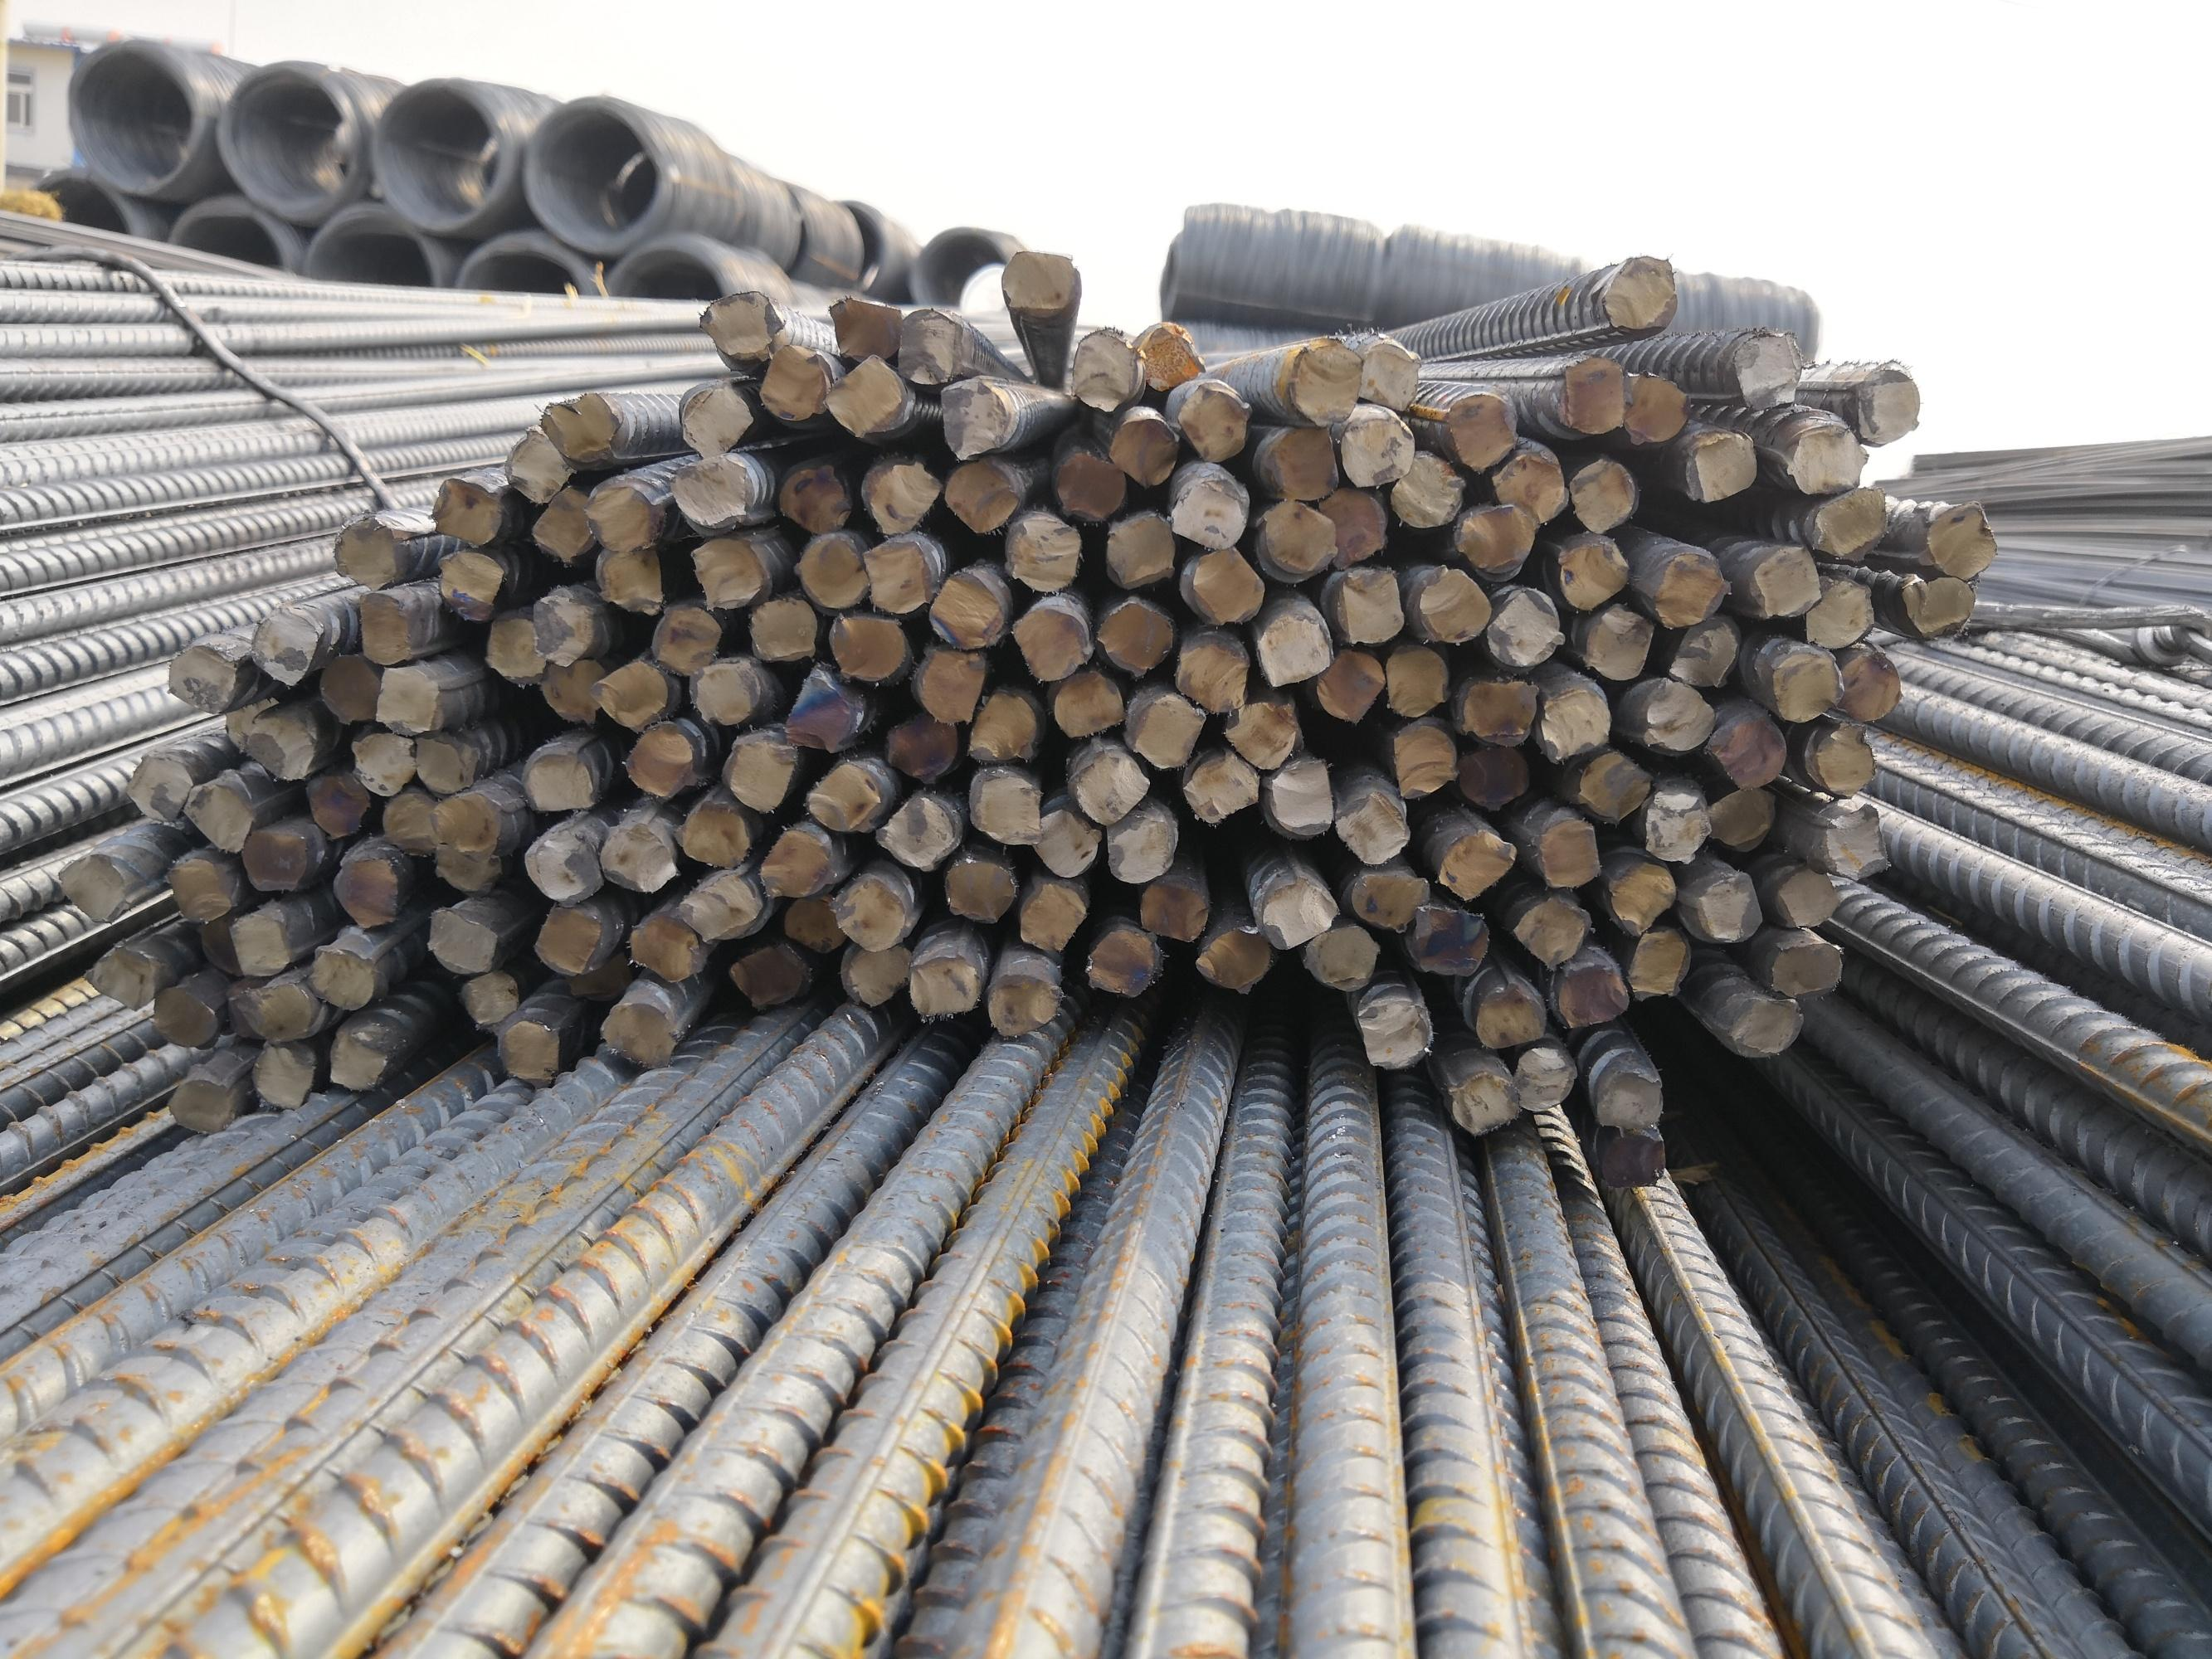bar: (1701, 695, 1790, 793), (924, 554, 1009, 653), (1279, 333, 1367, 429), (777, 652, 856, 756), (821, 350, 917, 436), (1163, 462, 1253, 551), (1597, 246, 1682, 340), (666, 448, 763, 530), (851, 530, 940, 619), (1006, 594, 1093, 685), (1327, 781, 1417, 868), (1382, 443, 1468, 535), (1483, 579, 1567, 673), (1778, 415, 1874, 497), (573, 477, 673, 556), (1093, 592, 1180, 681), (1436, 380, 1518, 474), (875, 782, 955, 878), (1260, 415, 1347, 502), (1347, 985, 1435, 1072), (1762, 638, 1848, 727), (1063, 746, 1154, 829), (1487, 441, 1571, 532), (1560, 446, 1642, 538), (1923, 491, 2005, 584), (753, 814, 840, 899), (999, 509, 1084, 596), (1123, 687, 1210, 772), (1546, 350, 1632, 437), (1647, 544, 1734, 629), (1184, 537, 1267, 626), (1257, 495, 1340, 584), (1431, 821, 1520, 904), (1802, 484, 1893, 566), (1184, 918, 1279, 995), (1170, 631, 1255, 716), (1574, 739, 1659, 824), (521, 894, 608, 978), (1379, 716, 1462, 803), (1401, 897, 1489, 981), (1632, 671, 1719, 755), (1337, 401, 1419, 490), (1342, 856, 1435, 934), (861, 453, 945, 538), (1253, 605, 1337, 690), (1452, 495, 1537, 579), (940, 450, 1021, 537), (1175, 376, 1257, 464), (1255, 870, 1342, 951), (1551, 526, 1633, 613), (966, 762, 1046, 850), (1846, 361, 1926, 450), (912, 636, 990, 727), (1313, 479, 1388, 573), (720, 941, 816, 1014), (593, 812, 675, 897), (1799, 566, 1881, 652), (818, 286, 905, 366), (1741, 537, 1822, 624), (1347, 326, 1424, 416), (1726, 321, 1802, 411), (1408, 565, 1492, 647), (1527, 680, 1611, 762), (1527, 809, 1609, 892), (242, 601, 322, 687), (518, 826, 605, 904), (682, 532, 769, 610), (757, 338, 833, 427), (933, 373, 1009, 462), (1639, 777, 1715, 866), (668, 385, 760, 458), (1327, 565, 1408, 647), (830, 870, 908, 955), (329, 845, 406, 932), (793, 528, 870, 615), (1098, 800, 1175, 887), (1818, 795, 1895, 882), (1293, 920, 1382, 995), (894, 298, 967, 389), (1264, 749, 1337, 840), (537, 387, 621, 465), (962, 685, 1041, 769), (1027, 798, 1105, 882), (1309, 643, 1388, 727), (1511, 887, 1595, 965), (235, 709, 321, 786), (586, 540, 671, 617), (675, 870, 760, 946), (899, 946, 985, 1023), (695, 288, 788, 357), (1105, 408, 1185, 488), (1098, 509, 1178, 589), (804, 751, 882, 833), (1178, 749, 1260, 828), (1048, 666, 1131, 742), (1457, 673, 1541, 749), (586, 657, 671, 732), (823, 606, 908, 681), (1072, 321, 1140, 415), (51, 852, 138, 925), (774, 460, 854, 538), (1616, 925, 1696, 1004), (157, 640, 239, 716), (1666, 612, 1743, 694), (326, 509, 401, 592), (1618, 362, 1693, 446), (1607, 852, 1680, 938), (1893, 566, 1978, 640), (1832, 643, 1903, 730), (1717, 993, 1808, 1061), (1049, 446, 1128, 525), (671, 796, 751, 873), (1222, 695, 1302, 772), (1590, 1054, 1666, 1134), (1553, 955, 1633, 1032), (617, 725, 699, 800), (418, 903, 502, 976), (500, 422, 573, 505), (1082, 925, 1166, 999), (1452, 739, 1536, 812), (1694, 864, 1768, 948), (624, 908, 701, 986), (1375, 640, 1452, 718), (1578, 603, 1654, 681), (180, 779, 254, 859), (429, 791, 509, 866), (424, 476, 504, 551), (880, 706, 960, 781), (995, 242, 1079, 314), (647, 601, 723, 678), (835, 934, 912, 1011), (1684, 427, 1761, 504), (1469, 974, 1548, 1049), (594, 999, 675, 1072), (723, 732, 797, 812), (1442, 1065, 1523, 1136), (978, 972, 1069, 1037), (514, 746, 598, 816), (528, 483, 596, 568), (1764, 934, 1849, 1002), (431, 547, 506, 624), (370, 660, 443, 739), (295, 769, 373, 842), (941, 852, 1020, 925), (1013, 877, 1086, 955), (739, 594, 819, 666), (1137, 866, 1208, 946), (310, 650, 383, 727), (1131, 319, 1208, 392), (1595, 1117, 1672, 1190), (1705, 777, 1778, 854), (1808, 716, 1877, 796), (77, 945, 159, 1012), (525, 587, 593, 669), (235, 824, 310, 897), (342, 725, 418, 796), (302, 941, 378, 1012), (1773, 857, 1841, 938), (155, 854, 230, 925), (221, 908, 296, 979), (120, 749, 192, 824), (234, 983, 316, 1047), (1510, 1040, 1581, 1114), (350, 584, 411, 666), (490, 1016, 561, 1086), (687, 657, 760, 725), (145, 985, 220, 1051), (160, 1070, 235, 1136), (375, 782, 439, 859), (246, 1044, 316, 1114), (481, 608, 544, 685), (537, 655, 605, 725), (776, 889, 849, 953), (404, 730, 474, 796), (554, 951, 640, 1004), (324, 1026, 392, 1091), (453, 969, 526, 1028), (213, 695, 284, 753), (188, 911, 244, 985), (432, 842, 500, 894), (214, 981, 268, 1040)
